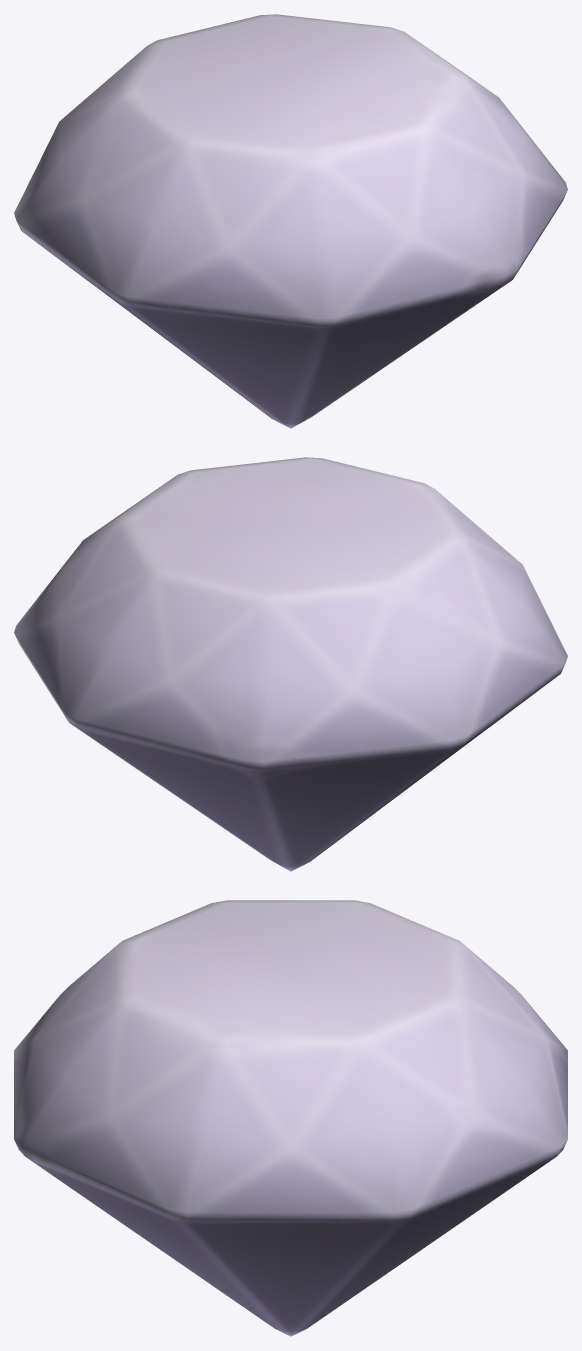
The model's file is SM_Gem_Diamond_Piece_002.fbx.
The picture shows the model from 3 angles, top to bottom: view 1: azimuth 30°, elevation 25°; view 2: azimuth 150°, elevation 25°; view 3: azimuth 270°, elevation 25°; orthographic projection. The views are drawn at different scales.
Visible parts, largest first — view 1: SM_Gem_Diamond_Piece_002; view 2: SM_Gem_Diamond_Piece_002; view 3: SM_Gem_Diamond_Piece_002.
Boxes of the visible parts, box(x1,y1,x2,y2) form: SM_Gem_Diamond_Piece_002: box(14, 14, 567, 428); SM_Gem_Diamond_Piece_002: box(14, 457, 567, 871); SM_Gem_Diamond_Piece_002: box(14, 900, 567, 1336).
Bounding box in the file's own units: 17.57 × 12.89 × 17.57.
